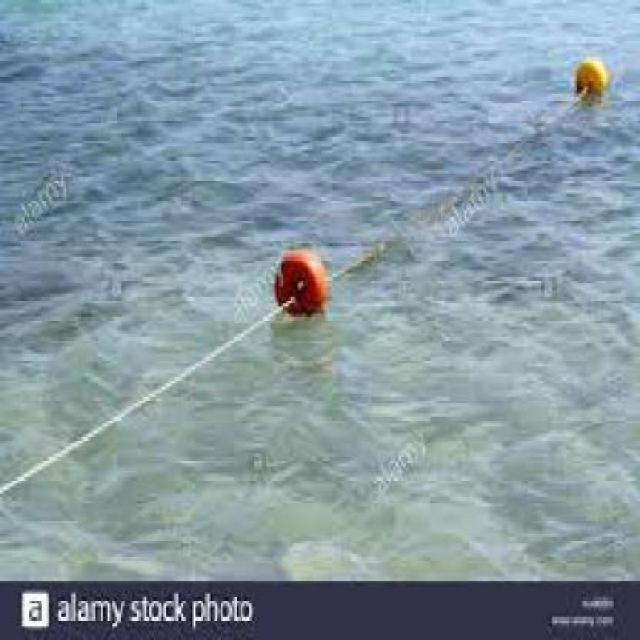buoy: (271, 241, 334, 324), (575, 31, 619, 111)
